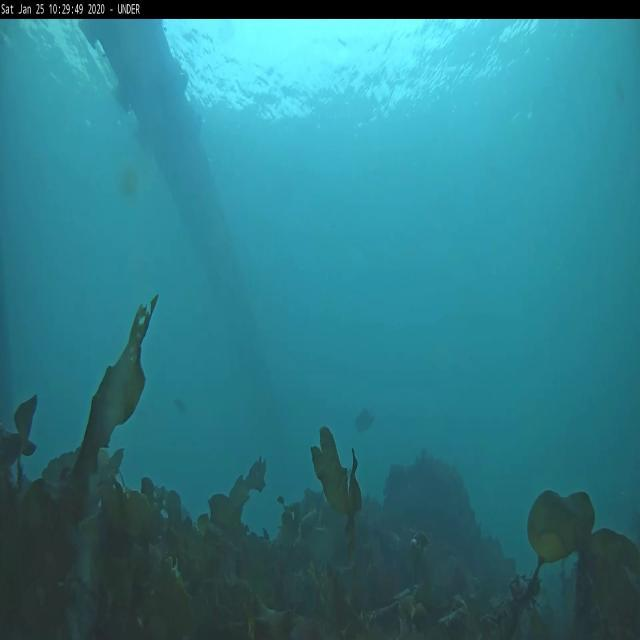fish: (354, 412, 380, 436), (171, 393, 190, 415)
